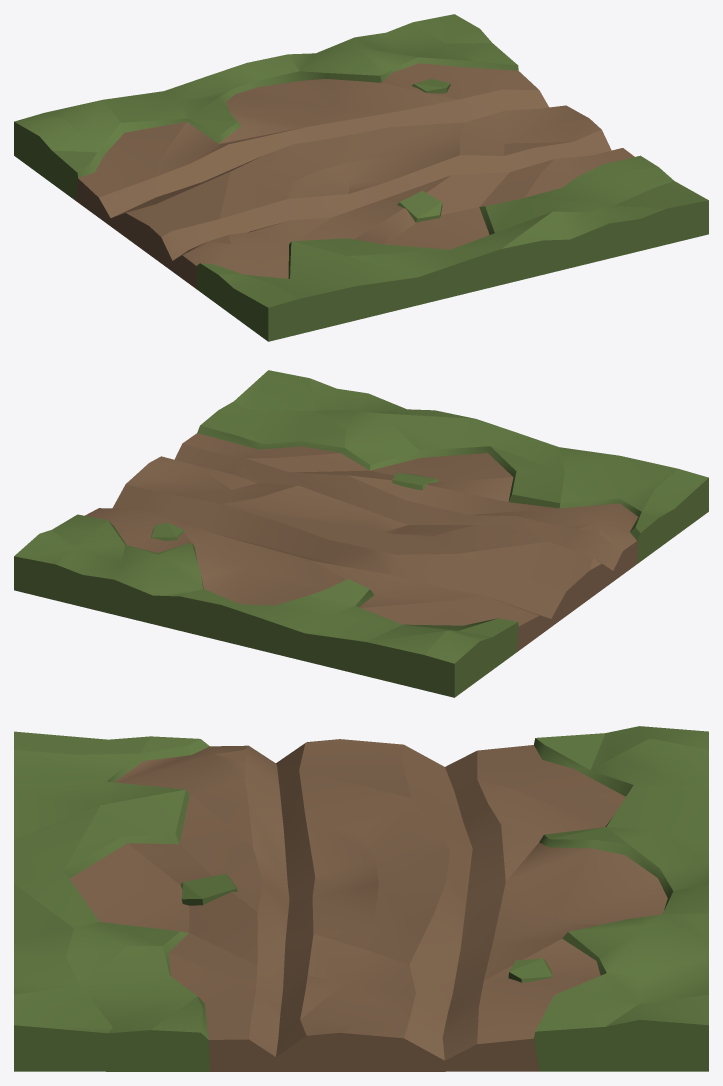
The model's file is Ground_Road_H.glb.
3 views of the same model, one above another, from view 1: azimuth 30°, elevation 25°; view 2: azimuth 150°, elevation 25°; view 3: azimuth 270°, elevation 25° (orthographic). The views are drawn at different scales.
Visible parts, largest first — view 1: Ground_Road_H; view 2: Ground_Road_H; view 3: Ground_Road_H.
Boxes of the visible parts, left/top/right/bottom form: Ground_Road_H: left=14, top=14, right=708, bottom=341; Ground_Road_H: left=14, top=370, right=708, bottom=697; Ground_Road_H: left=14, top=726, right=708, bottom=1071.
Bounding box in the file's own units: 1.47 × 0.1508 × 1.47.
